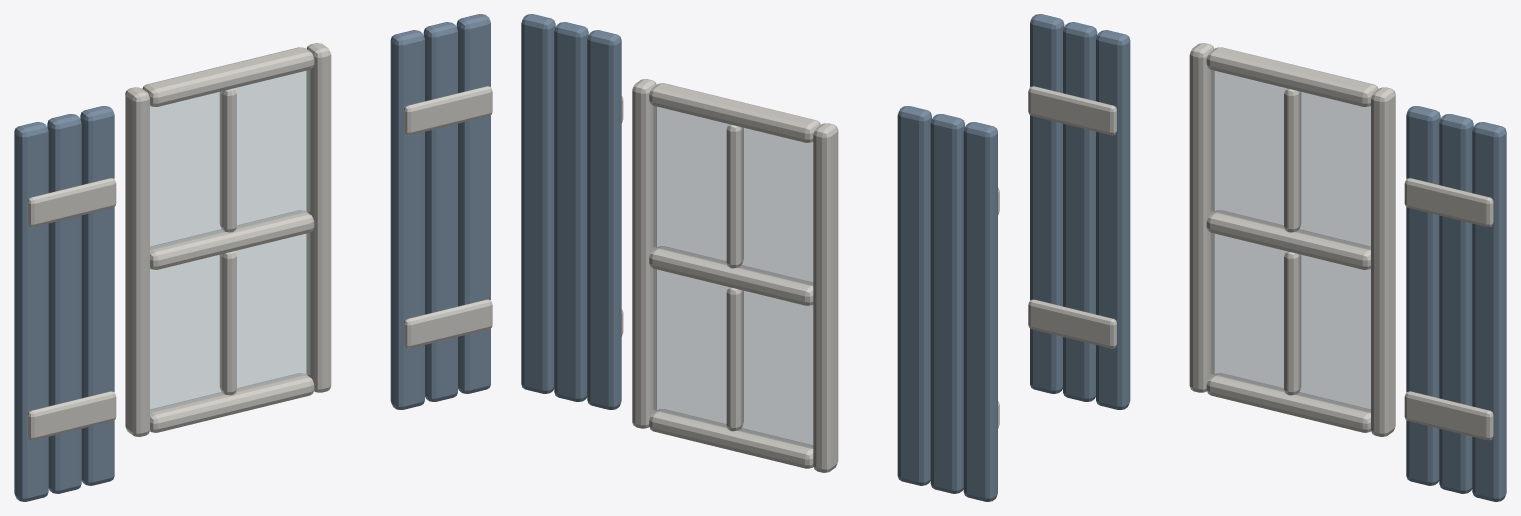
File: SM_Kit_Window_DoubleHung_Shutters.glb
3 views of the same model, side by side, from view 1: azimuth 30°, elevation 25°; view 2: azimuth 150°, elevation 25°; view 3: azimuth 330°, elevation 25° (orthographic).
Visible parts, largest first — view 1: SM_Kit_Window_DoubleHung_Shutters; view 2: SM_Kit_Window_DoubleHung_Shutters; view 3: SM_Kit_Window_DoubleHung_Shutters.
Part boxes in pixels (box(x1,y1,x2,y2)): SM_Kit_Window_DoubleHung_Shutters: box(14, 14, 492, 501); SM_Kit_Window_DoubleHung_Shutters: box(521, 14, 999, 501); SM_Kit_Window_DoubleHung_Shutters: box(1028, 14, 1506, 501).
Bounding box in the file's own units: 1.67 × 1.26 × 0.25.
